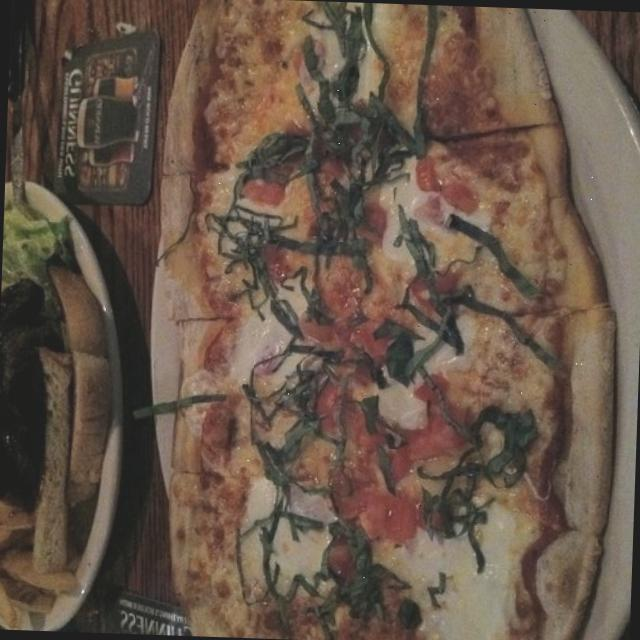basil: (278, 66, 412, 190), (250, 354, 352, 486), (268, 195, 374, 284)
pizza: (157, 0, 615, 640)
tomato: (393, 379, 474, 494), (326, 481, 421, 536)
